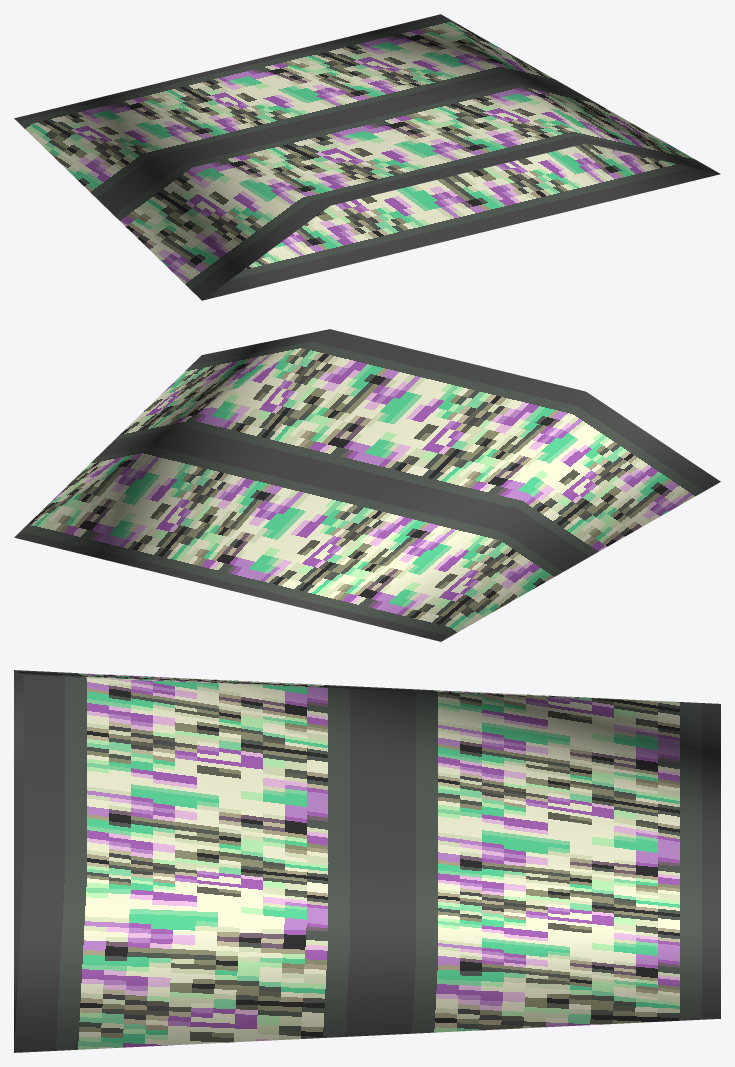
File: 2315skirt00_c.gltf
3 renders of one model, top to bottom at view 1: azimuth 30°, elevation 25°; view 2: azimuth 150°, elevation 25°; view 3: azimuth 270°, elevation 25°, orthographic. The views are drawn at different scales.
Parts seen in each view (by area): view 1: 2315skirt00_c; view 2: 2315skirt00_c; view 3: 2315skirt00_c.
Part boxes in pixels (x1,y1,x2,y2): 2315skirt00_c: [14, 14, 720, 300]; 2315skirt00_c: [14, 329, 720, 641]; 2315skirt00_c: [14, 670, 720, 1052].
Bounding box in the file's own units: 0.7896 × 0.0879 × 0.6162.
1 material, 1 textured.
